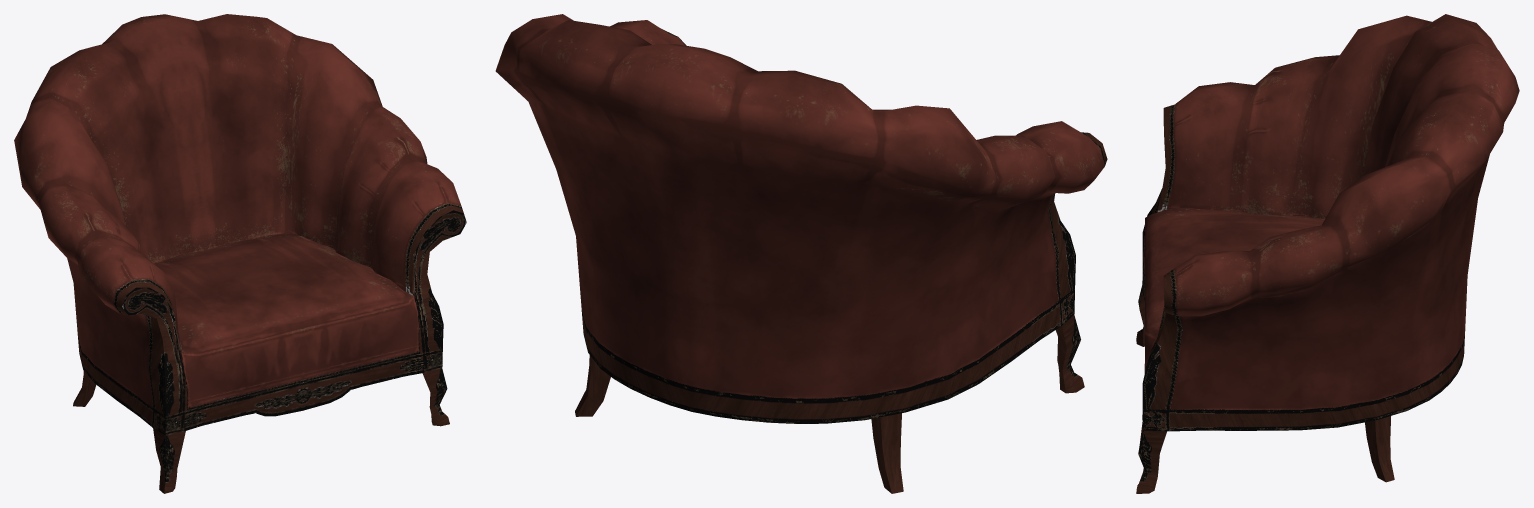
File: Sofa020.FBX
3 views of the same model, side by side, from view 1: azimuth 30°, elevation 25°; view 2: azimuth 150°, elevation 25°; view 3: azimuth 270°, elevation 25° (orthographic). The views are drawn at different scales.
Parts seen in each view (by area): view 1: Sofa020_001; view 2: Sofa020_001; view 3: Sofa020_001.
Boxes of the visible parts, x1=… form: Sofa020_001: x1=14, y1=14, x2=466, y2=493; Sofa020_001: x1=495, y1=14, x2=1107, y2=493; Sofa020_001: x1=1136, y1=14, x2=1519, y2=493.
Size of the model in its own units: 163 by 138 by 132.
Materials: 1 (1 with a texture image).
